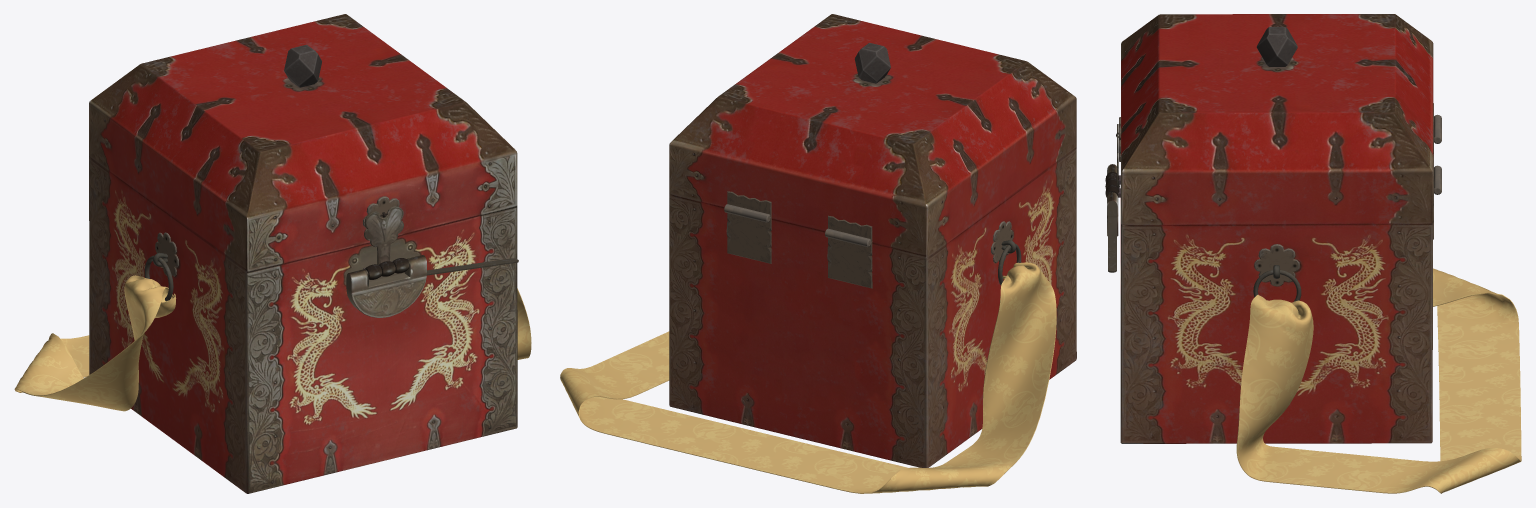
Rendered from royalsealbox.glb.
3 views of the same model, side by side, from view 1: azimuth 30°, elevation 25°; view 2: azimuth 150°, elevation 25°; view 3: azimuth 270°, elevation 25° (orthographic). The views are drawn at different scales.
Visible parts, largest first — view 1: SM_GJJ_Royalsealbox; view 2: SM_GJJ_Royalsealbox; view 3: SM_GJJ_Royalsealbox.
Boxes of the visible parts, <box> form: SM_GJJ_Royalsealbox: <box>14,14,531,493</box>; SM_GJJ_Royalsealbox: <box>560,14,1076,493</box>; SM_GJJ_Royalsealbox: <box>1105,14,1521,493</box>.
Bounding box in the file's own units: 0.3631 × 0.2664 × 0.288.
2 materials, 2 textured.
